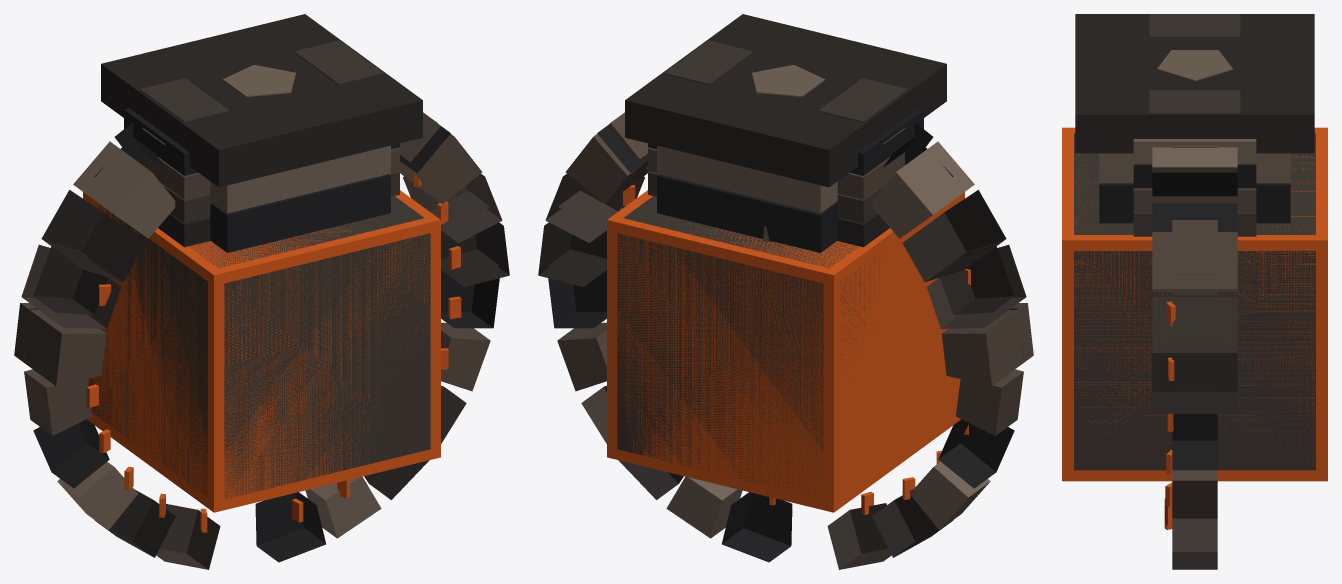
Rendered from ember-kit.glb.
3 views of the same model, side by side, from view 1: azimuth 30°, elevation 25°; view 2: azimuth 150°, elevation 25°; view 3: azimuth 270°, elevation 25° (orthographic).
Parts seen in each view (by area): view 1: stone, glow, pillar, ring, arch, furnace, rune, crag; view 2: glow, pillar, stone, ring, arch, furnace, crag, rune; view 3: stone, pillar, glow, arch, ring, furnace, crag, rune.
Part boxes in pixels (x1,y1,x2,y2): stone: [89, 196, 430, 498]; glow: [83, 190, 440, 512]; pillar: [101, 14, 422, 252]; ring: [24, 112, 499, 569]; arch: [14, 122, 509, 386]; furnace: [124, 40, 399, 247]; rune: [86, 173, 461, 532]; crag: [223, 65, 295, 97]; glow: [607, 190, 964, 512]; pillar: [625, 14, 946, 252]; stone: [617, 196, 879, 495]; ring: [548, 112, 1023, 569]; arch: [538, 122, 1033, 386]; furnace: [648, 40, 923, 247]; crag: [752, 65, 824, 242]; rune: [623, 167, 970, 515]; stone: [1074, 133, 1315, 470]; pillar: [1075, 14, 1314, 223]; glow: [1062, 127, 1327, 481]; arch: [1152, 147, 1237, 413]; ring: [1172, 146, 1217, 569]; furnace: [1133, 14, 1256, 236]; crag: [1157, 50, 1292, 171]; rune: [1164, 301, 1175, 529].
Size of the model in its own units: 2 by 2 by 1.
